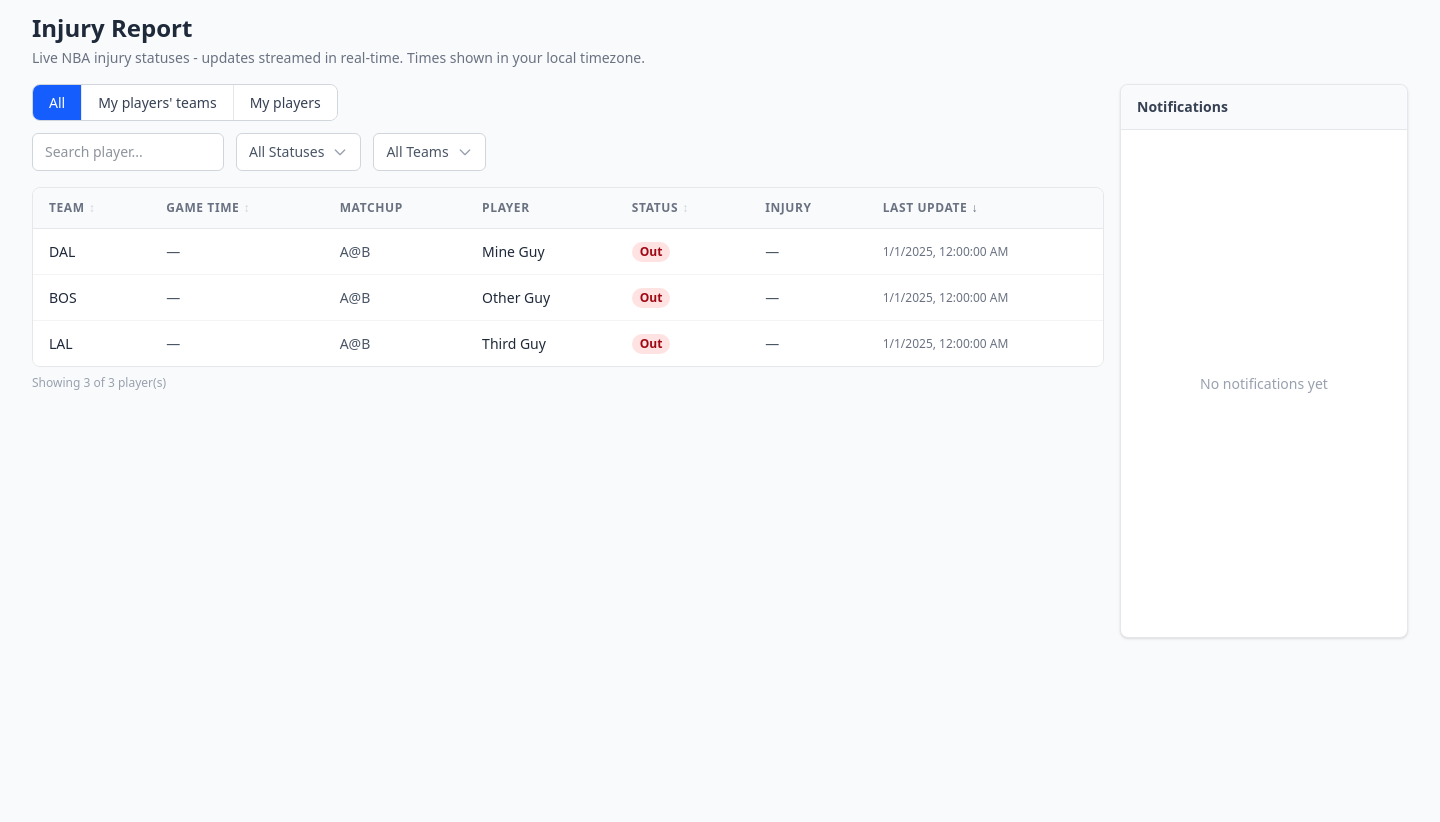
Test case: Injuries page with My Team set › narrows to my players when that choice is selected, and back from All
The width and height of the screenshot is (1440, 822).
Click the radio button labelled "My players".
click(285, 103)  # box [234,85,337,120]
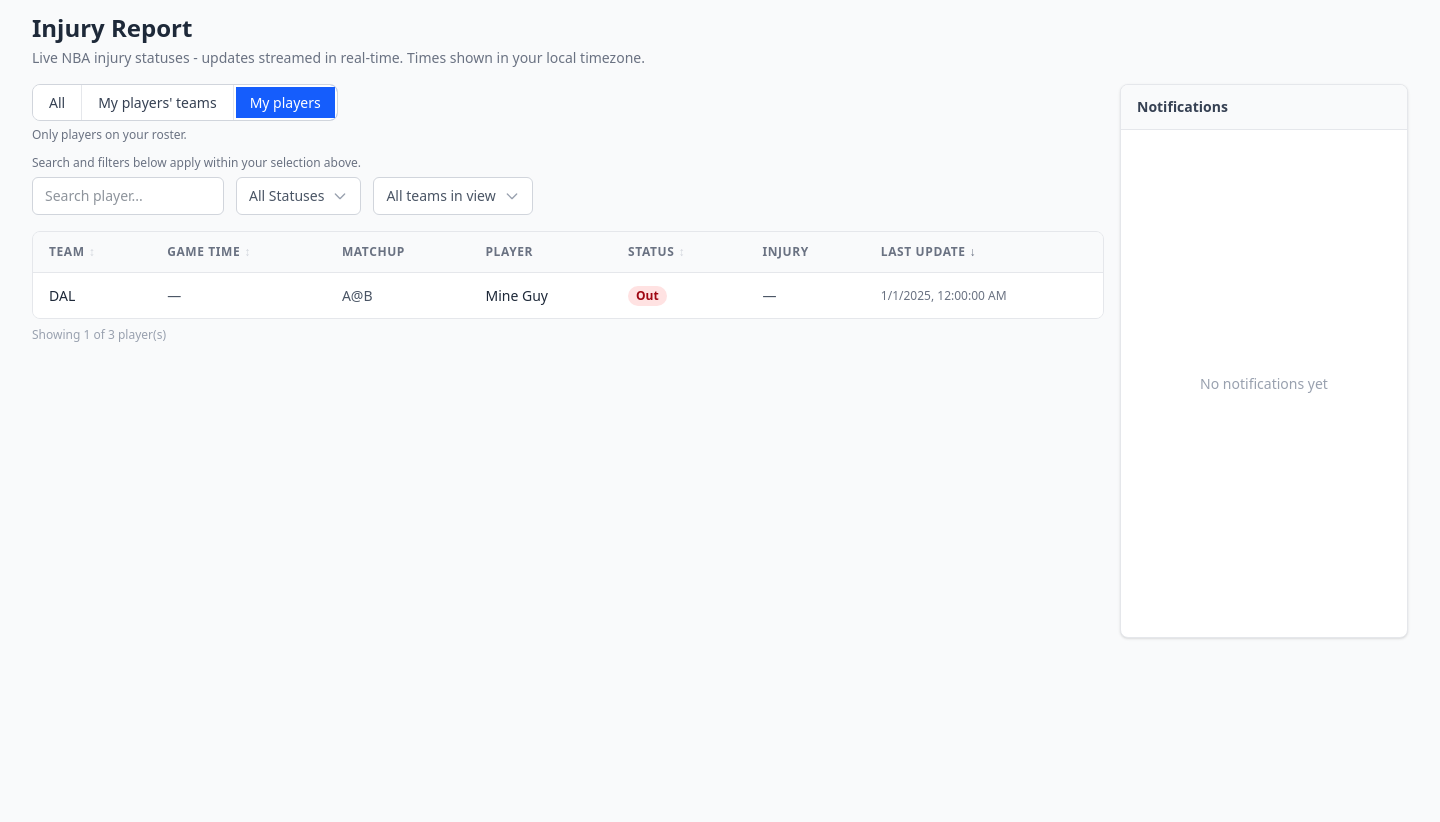
Check: the text "Showing 1 of 3 player(s)" is shown, box [32,326,166,343]
Check: the text "Only players on your roster." is shown, box [32,126,187,143]
Check: the text "Other Guy" is gone
Click the radio button labelled "All".
click(58, 103)  # box [33,85,82,120]
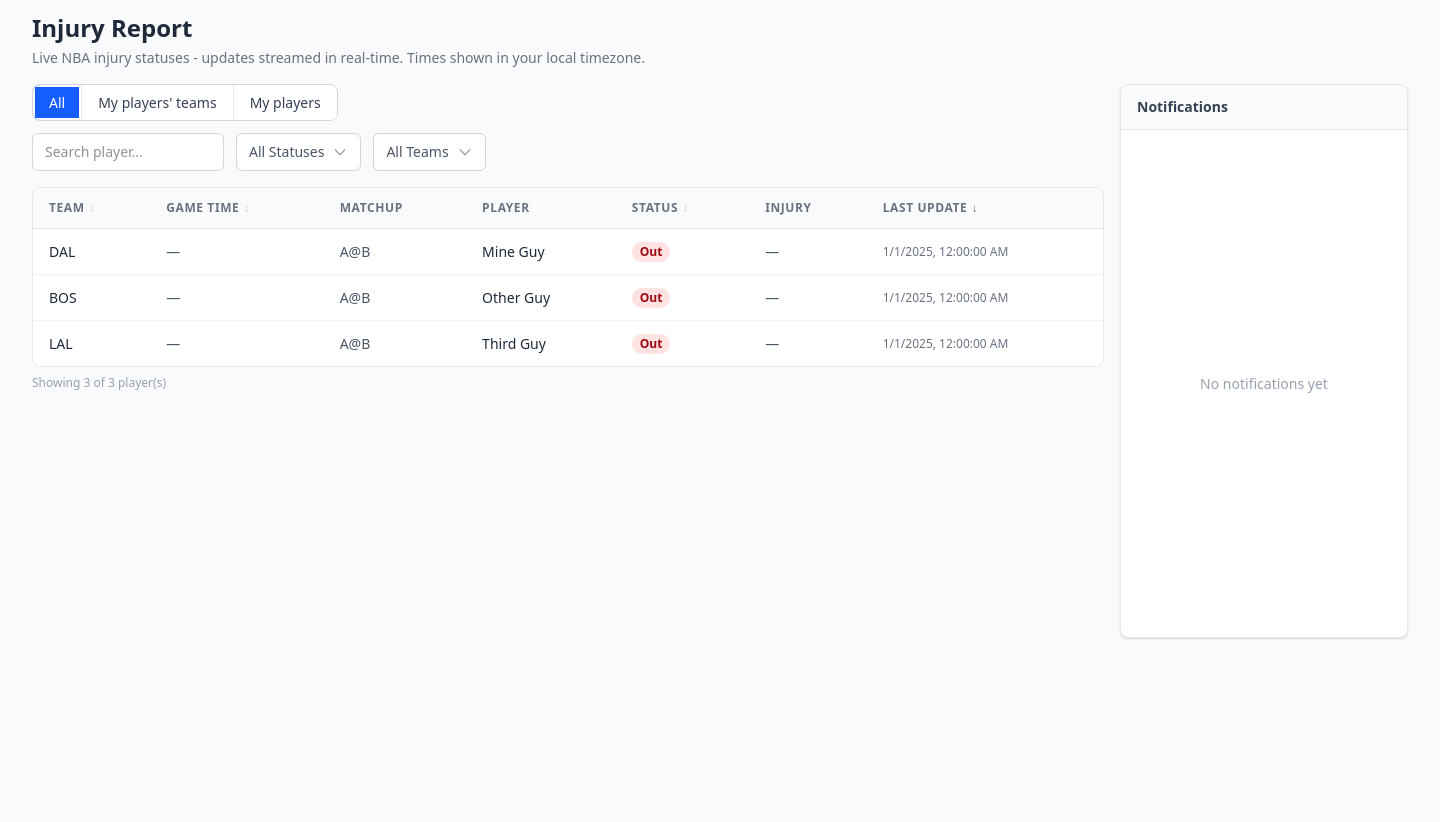
Check: the text "Showing 3 of 3 player(s)" is shown, box [32,374,166,391]
